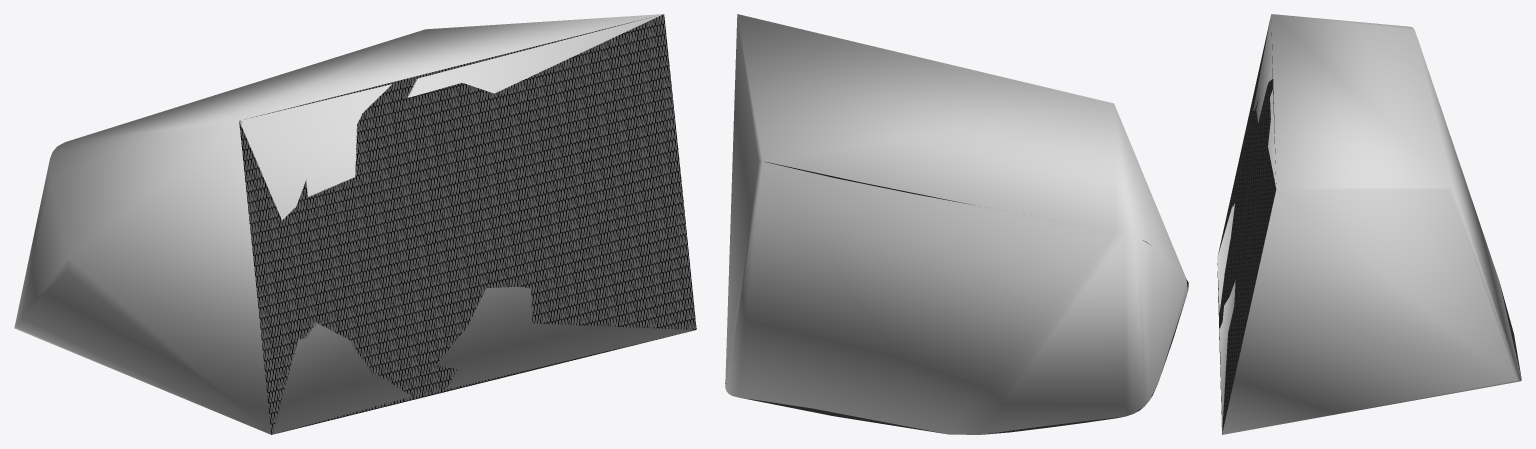
The picture shows the model from 3 angles, left to right: view 1: azimuth 30°, elevation 25°; view 2: azimuth 150°, elevation 25°; view 3: azimuth 270°, elevation 25°; orthographic projection. The views are drawn at different scales.
Visible parts, largest first — view 1: grille_stampede_tail_l_01, grille_stampede_tail_l_01_col; view 2: grille_stampede_tail_l_01_col, grille_stampede_tail_l_01; view 3: grille_stampede_tail_l_01_col, grille_stampede_tail_l_01.
Boxes of the visible parts, left/top/right/bottom form: grille_stampede_tail_l_01: left=239, top=14, right=696, bottom=434; grille_stampede_tail_l_01_col: left=14, top=14, right=695, bottom=434; grille_stampede_tail_l_01_col: left=725, top=14, right=1187, bottom=434; grille_stampede_tail_l_01: left=725, top=161, right=1188, bottom=434; grille_stampede_tail_l_01_col: left=1217, top=14, right=1521, bottom=434; grille_stampede_tail_l_01: left=1217, top=16, right=1520, bottom=433.
Bounding box in the file's own units: 0.382 × 0.192 × 0.2131.
Materials: 3 (3 with a texture image).
